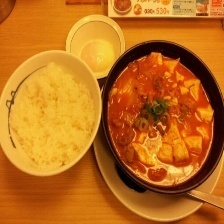sabzi: (104, 49, 223, 192)
